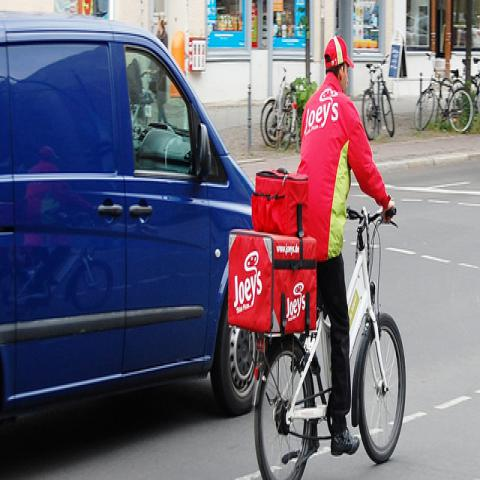car: (0, 11, 264, 422)
